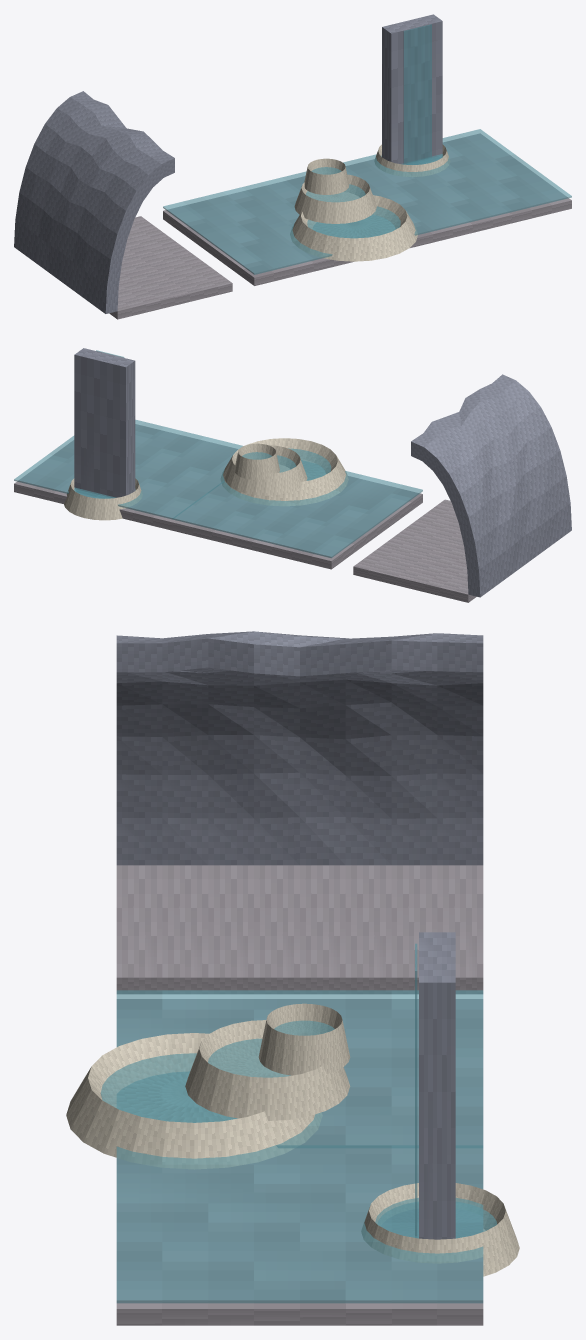
Rendered from cave-and-crystal-networks-flooded-gallery-scene-d1d0cc3d.glb.
3 renders of one model, top to bottom at view 1: azimuth 30°, elevation 25°; view 2: azimuth 150°, elevation 25°; view 3: azimuth 270°, elevation 25°, orthographic. The views are drawn at different scales.
Visible parts, largest first — view 1: 000-tunnel-cutaway/0, 002-pool-tile/0, 002-pool-tile/1, 001-pool-tile/1, 001-pool-tile/0, 003-shaft-waterfall/0, 000-tunnel-cutaway/1, 004-rimstone-dams/0, 003-shaft-waterfall/1, 004-rimstone-dams/2, 004-rimstone-dams/1, 004-rimstone-dams/4 (+2 smaller); view 2: 000-tunnel-cutaway/0, 001-pool-tile/0, 001-pool-tile/1, 002-pool-tile/0, 002-pool-tile/1, 003-shaft-waterfall/0, 000-tunnel-cutaway/1, 004-rimstone-dams/0, 004-rimstone-dams/2, 003-shaft-waterfall/2, 004-rimstone-dams/4, 004-rimstone-dams/1; view 3: 000-tunnel-cutaway/0, 002-pool-tile/0, 002-pool-tile/1, 000-tunnel-cutaway/1, 001-pool-tile/1, 001-pool-tile/0, 004-rimstone-dams/0, 003-shaft-waterfall/0, 004-rimstone-dams/2, 003-shaft-waterfall/2, 004-rimstone-dams/4, 004-rimstone-dams/1 (+3 smaller).
Part boxes in pixels (box(x1,y1,x2,y2)): 000-tunnel-cutaway/0: box(14, 91, 174, 313); 002-pool-tile/0: box(346, 133, 571, 247); 002-pool-tile/1: box(343, 129, 571, 235); 001-pool-tile/1: box(163, 171, 394, 274); 001-pool-tile/0: box(163, 176, 413, 285); 003-shaft-waterfall/0: box(382, 14, 442, 164); 000-tunnel-cutaway/1: box(109, 216, 232, 319); 004-rimstone-dams/0: box(290, 195, 417, 261); 003-shaft-waterfall/1: box(403, 24, 431, 164); 004-rimstone-dams/2: box(294, 174, 376, 223); 004-rimstone-dams/1: box(307, 206, 400, 238); 004-rimstone-dams/4: box(304, 158, 349, 194); 000-tunnel-cutaway/0: box(411, 374, 571, 597); 001-pool-tile/0: box(172, 476, 422, 569); 001-pool-tile/1: box(172, 460, 422, 557); 002-pool-tile/0: box(14, 424, 237, 530); 002-pool-tile/1: box(14, 420, 242, 519); 003-shaft-waterfall/0: box(74, 348, 135, 497); 000-tunnel-cutaway/1: box(353, 499, 476, 602); 004-rimstone-dams/0: box(221, 438, 348, 505); 004-rimstone-dams/2: box(225, 445, 307, 495); 003-shaft-waterfall/2: box(64, 478, 142, 520); 004-rimstone-dams/4: box(234, 443, 279, 479); 004-rimstone-dams/1: box(288, 448, 331, 480); 000-tunnel-cutaway/0: box(116, 631, 483, 865); 002-pool-tile/0: box(116, 1154, 483, 1325); 002-pool-tile/1: box(116, 1145, 483, 1303); 000-tunnel-cutaway/1: box(116, 865, 483, 993); 001-pool-tile/1: box(116, 990, 483, 1147); 001-pool-tile/0: box(117, 999, 482, 1153); 004-rimstone-dams/0: box(66, 1033, 322, 1169); 003-shaft-waterfall/0: box(419, 932, 455, 1239); 004-rimstone-dams/2: box(185, 1020, 350, 1120); 003-shaft-waterfall/2: box(361, 1183, 519, 1276); 004-rimstone-dams/4: box(258, 1003, 350, 1075); 004-rimstone-dams/1: box(100, 1053, 237, 1122).
Bounding box in the file's own units: 11.75 × 3.61 × 4.95.
Materials: 4 (4 with a texture image).
